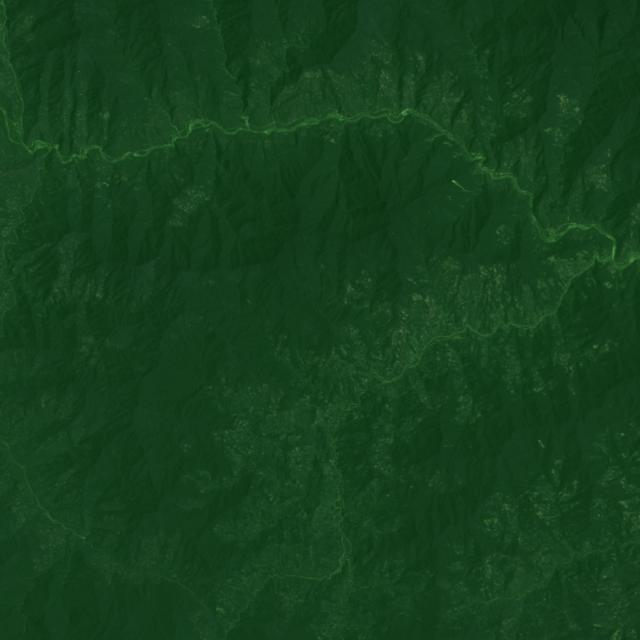landslides: (451, 180, 474, 193), (443, 208, 457, 218), (215, 606, 227, 616), (412, 144, 420, 158)
